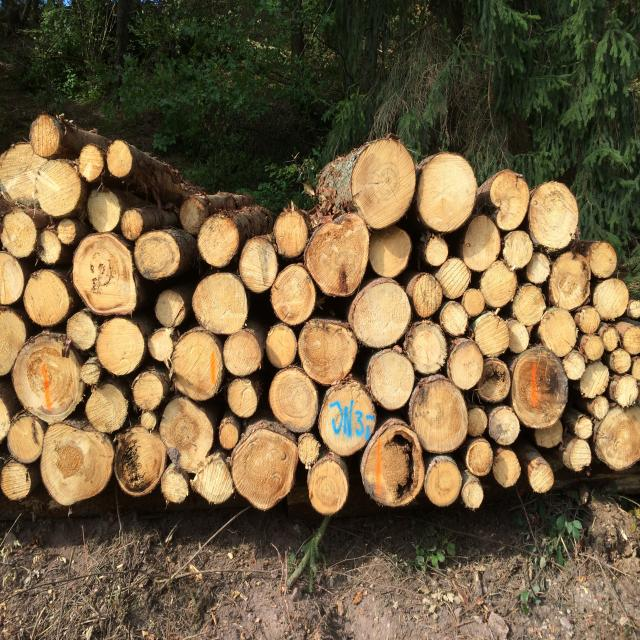wood-log: (14, 334, 85, 424), (42, 424, 116, 508), (0, 144, 81, 218), (230, 423, 296, 511), (351, 140, 416, 226), (305, 214, 372, 295), (72, 234, 138, 313), (416, 155, 477, 234), (512, 346, 570, 428), (320, 379, 380, 457), (409, 376, 469, 454), (360, 433, 422, 505), (347, 278, 410, 346), (157, 397, 214, 472), (301, 319, 360, 386), (173, 329, 228, 400), (113, 426, 166, 498), (192, 272, 250, 335), (528, 184, 580, 251), (268, 369, 320, 434), (270, 264, 318, 326), (37, 157, 85, 219), (93, 318, 144, 376), (368, 350, 416, 411), (22, 269, 72, 326), (596, 406, 640, 470), (550, 252, 592, 310), (489, 172, 529, 232), (460, 215, 502, 272), (405, 321, 449, 375), (308, 457, 348, 516), (236, 238, 278, 294), (369, 227, 414, 278), (133, 233, 179, 282), (198, 216, 241, 268), (88, 382, 130, 435), (223, 328, 265, 377), (194, 455, 234, 506), (0, 308, 27, 379), (540, 307, 579, 356), (425, 457, 461, 508), (448, 340, 485, 389), (7, 412, 42, 463), (2, 212, 39, 260), (481, 260, 517, 308), (408, 270, 444, 318), (274, 212, 310, 260), (88, 188, 124, 234), (476, 314, 512, 359), (593, 277, 629, 320), (512, 285, 548, 327), (267, 324, 299, 370), (439, 256, 473, 298), (29, 116, 62, 159), (226, 378, 260, 418), (132, 371, 166, 411), (0, 252, 25, 306), (490, 404, 522, 446), (504, 228, 536, 268), (66, 311, 98, 350), (156, 290, 187, 330), (494, 447, 523, 488), (580, 362, 612, 399), (0, 462, 30, 501), (587, 243, 618, 279), (161, 468, 190, 506), (78, 145, 107, 183), (477, 375, 513, 405), (440, 301, 469, 337), (465, 440, 493, 476), (38, 222, 63, 262), (106, 140, 132, 177), (563, 440, 593, 472), (527, 456, 553, 492), (613, 373, 639, 408), (524, 252, 550, 285), (508, 319, 532, 353), (534, 422, 562, 450), (576, 304, 602, 334), (461, 288, 485, 318), (425, 236, 449, 266), (562, 349, 585, 380), (460, 478, 482, 510), (582, 334, 604, 364), (124, 208, 145, 239), (0, 388, 12, 442), (218, 418, 238, 449), (611, 346, 633, 374), (60, 220, 80, 246), (600, 327, 619, 353), (623, 326, 640, 355), (576, 415, 594, 438), (630, 298, 640, 320), (632, 357, 640, 378)
